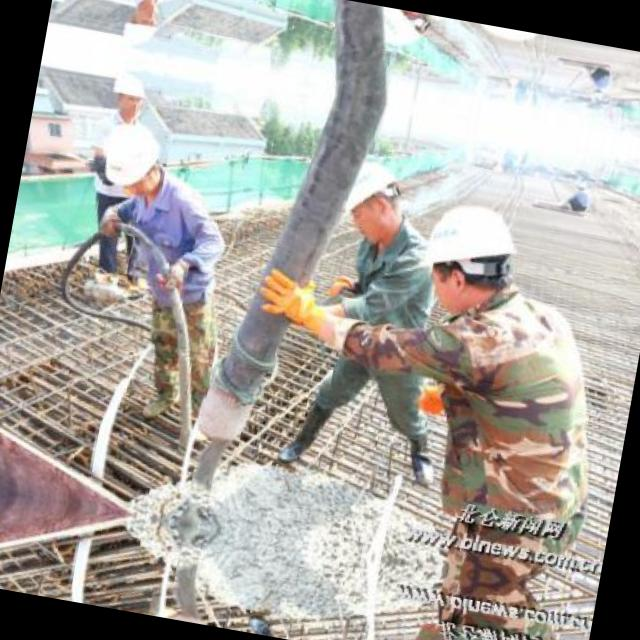helmet: (402, 185, 532, 328), (328, 148, 411, 249), (92, 111, 172, 197), (362, 4, 438, 60), (104, 66, 152, 122), (115, 0, 163, 52), (125, 0, 200, 13)
